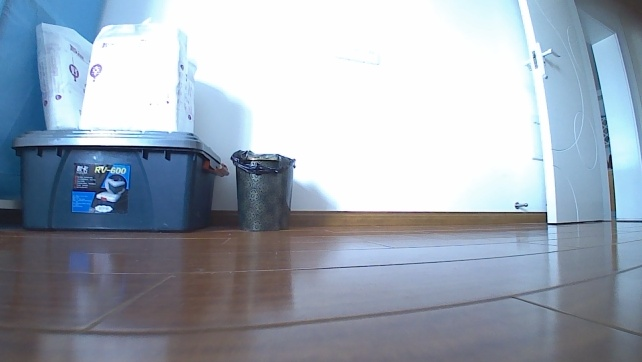door: (512, 0, 615, 228)
